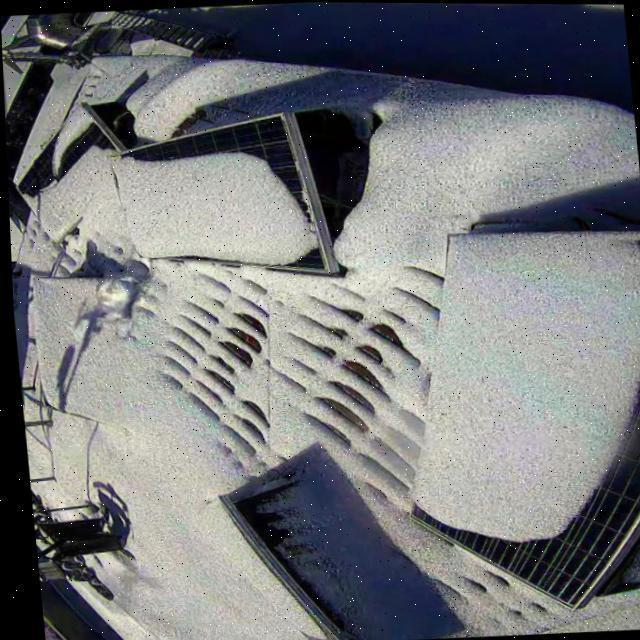Anomaly Solar Panel: (404, 233, 640, 609), (105, 114, 322, 271), (192, 495, 334, 640), (15, 104, 118, 243), (29, 280, 117, 428)
Snow: (410, 234, 640, 547), (105, 116, 322, 272), (190, 500, 319, 640), (14, 104, 117, 242), (31, 280, 118, 429)
